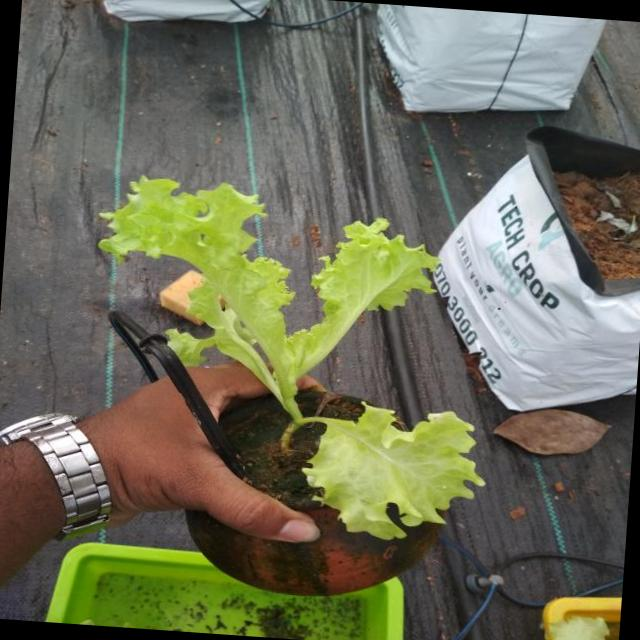Lettuce-Not-Ready-to-Harvest: (100, 177, 483, 538)
